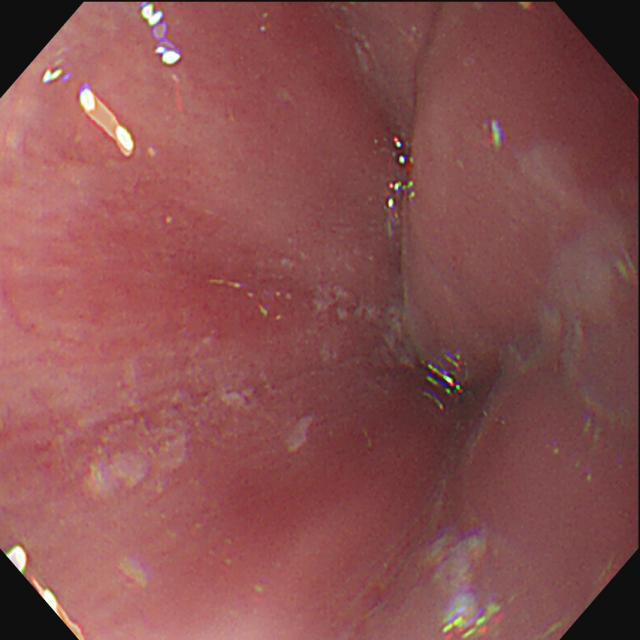J: (88, 355, 314, 501), (311, 281, 417, 364)
U: (79, 86, 137, 159), (31, 576, 86, 640), (139, 2, 183, 68), (425, 353, 470, 412), (443, 606, 503, 640), (388, 180, 417, 207), (394, 138, 415, 172), (4, 545, 28, 574), (486, 120, 505, 153), (42, 66, 71, 85)
